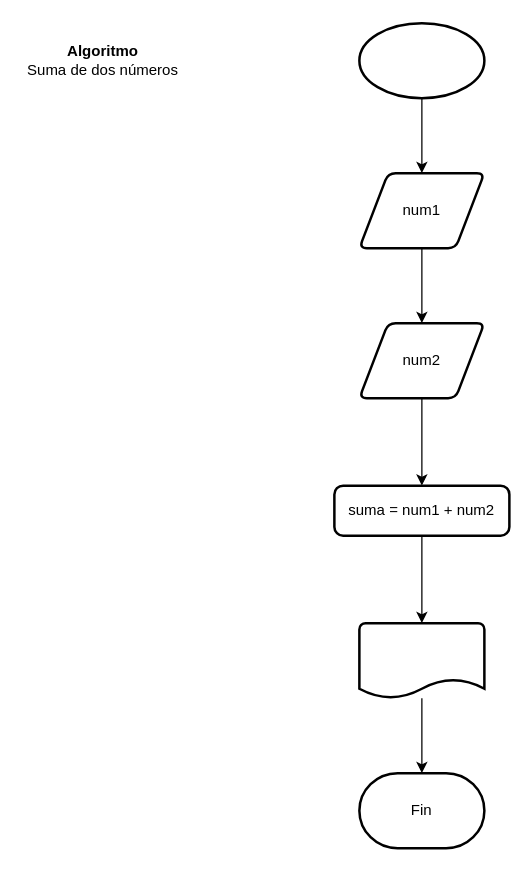
The diagram is 531 pixels wide and 870 high, and some of its shapes have lost their labels. Here are the shapes that lost their labels. From the top down, the centre of each, then its label:
At [421,60]: "Inicio".
At [421,660]: "suma".
